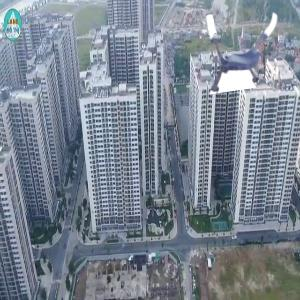drone: (202, 5, 288, 91)
